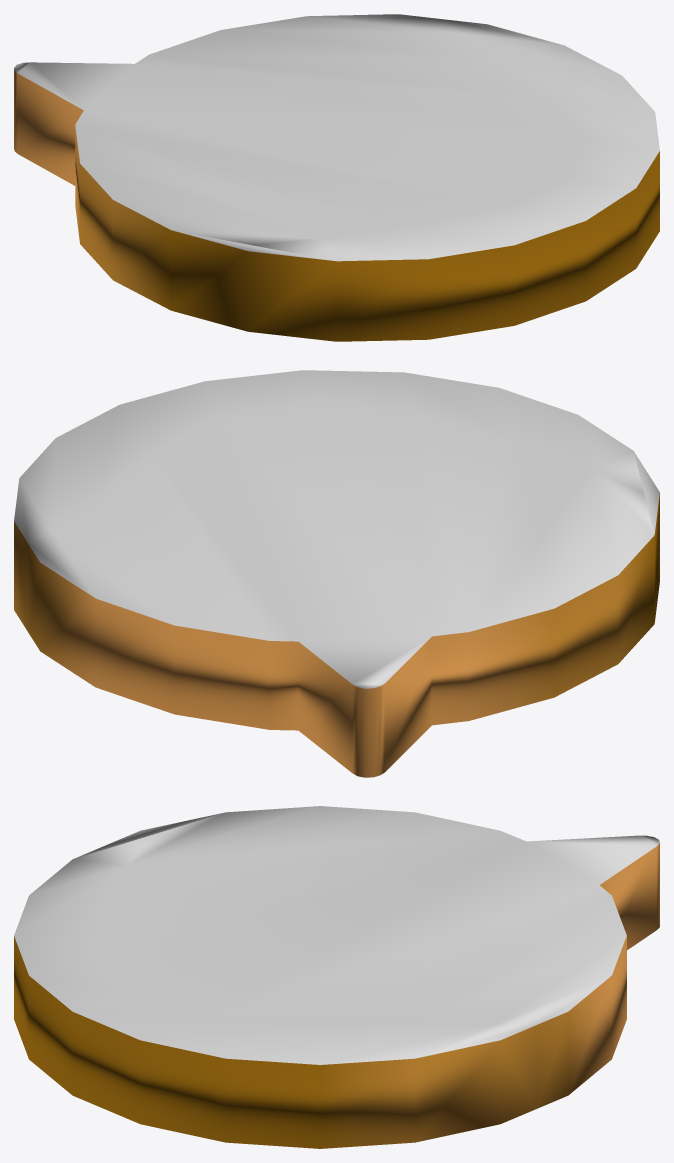
Rendered from PartySuppliesSign.fbx.
3 renders of one model, top to bottom at view 1: azimuth 30°, elevation 25°; view 2: azimuth 150°, elevation 25°; view 3: azimuth 270°, elevation 25°, orthographic. The views are drawn at different scales.
Visible parts, largest first — view 1: PartySuppliesSign; view 2: PartySuppliesSign; view 3: PartySuppliesSign.
Part boxes in pixels (<box>): PartySuppliesSign: <box>14,14,659,341</box>; PartySuppliesSign: <box>14,370,659,777</box>; PartySuppliesSign: <box>14,806,659,1148</box>.
Size of the model in its own units: 86.1 by 13.01 by 90.75.
